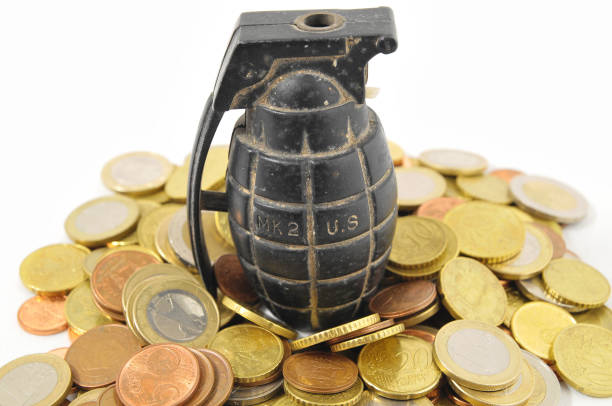e1: (183, 9, 400, 321)
